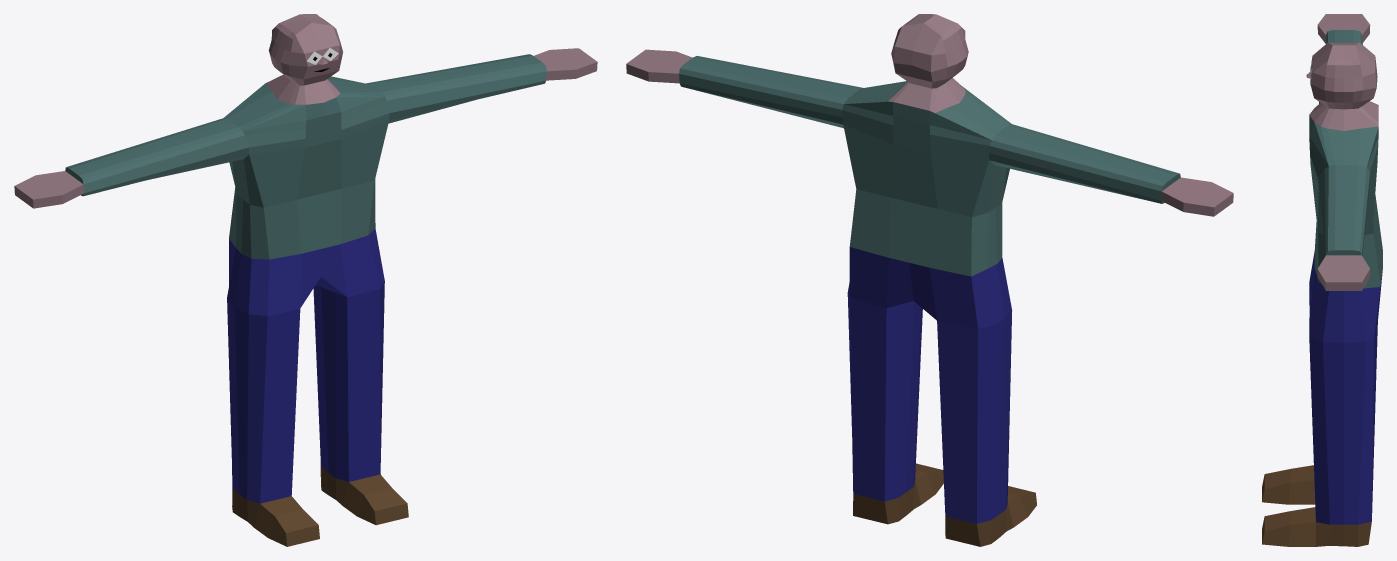
Rendered from Villager.glb.
3 views of the same model, side by side, from view 1: azimuth 30°, elevation 25°; view 2: azimuth 150°, elevation 25°; view 3: azimuth 270°, elevation 25° (orthographic). The views are drawn at different scales.
Parts seen in each view (by area): view 1: Cube; view 2: Cube; view 3: Cube.
Boxes of the visible parts, x1,y1,x2,y2 form: Cube: (14,14,597,546); Cube: (626,14,1233,546); Cube: (1262,14,1382,546).
Bounding box in the file's own units: 2.21 × 1.81 × 0.4218.
